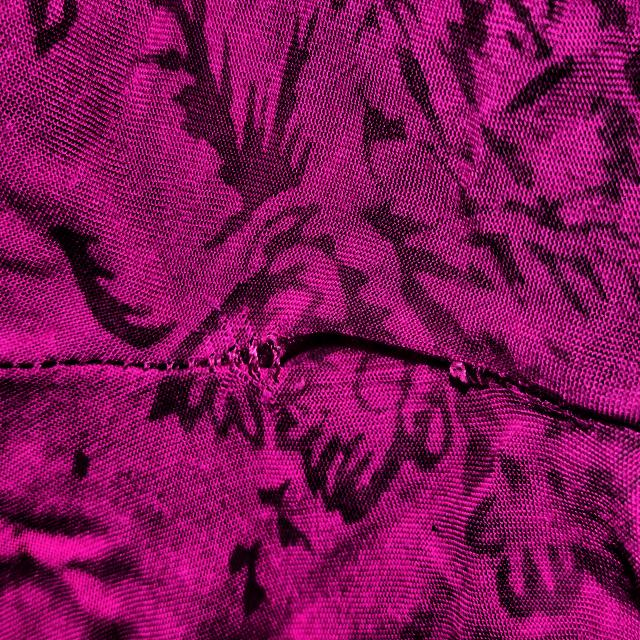seam: (184, 292, 525, 478)
